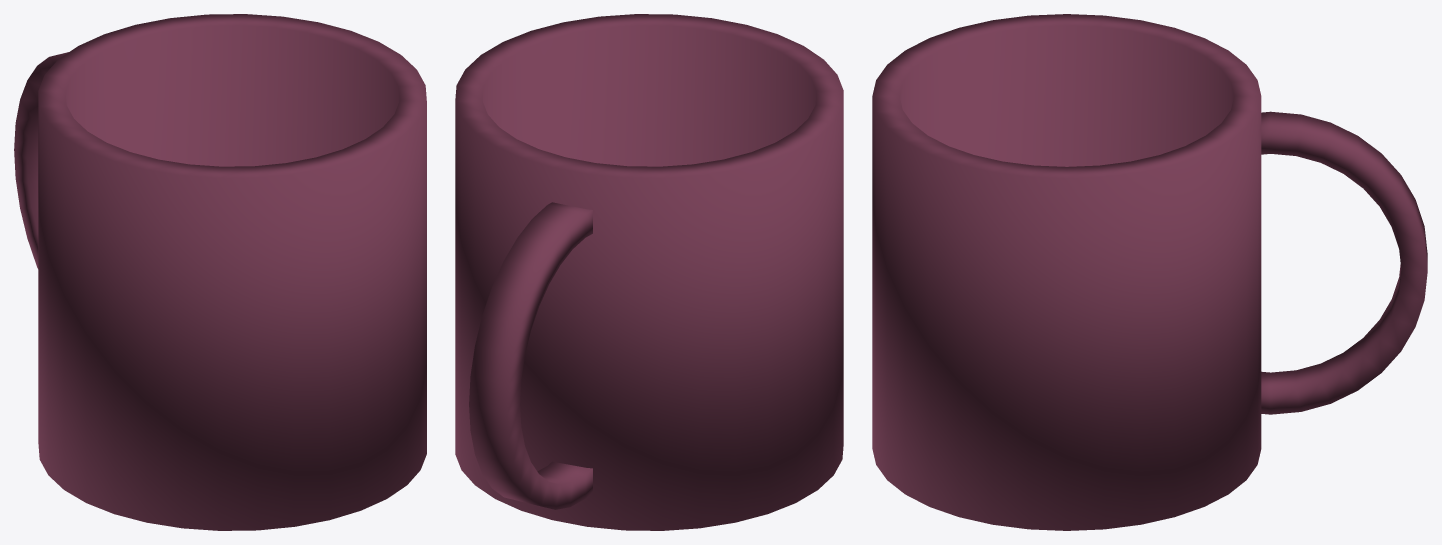
File: kubek.gltf
The picture shows the model from 3 angles, left to right: view 1: azimuth 30°, elevation 25°; view 2: azimuth 150°, elevation 25°; view 3: azimuth 270°, elevation 25°; orthographic projection.
Visible parts, largest first — view 1: Cylinder, Circle; view 2: Cylinder, Circle; view 3: Cylinder, Circle.
Part boxes in pixels (<box>): Cylinder: <box>38,14,426,530</box>; Circle: <box>14,52,68,268</box>; Cylinder: <box>455,14,843,530</box>; Circle: <box>469,202,592,509</box>; Cylinder: <box>872,14,1261,530</box>; Circle: <box>1261,111,1427,414</box>.
Bounding box in the file's own units: 2 × 2 × 2.85.
1 material, 1 textured.
